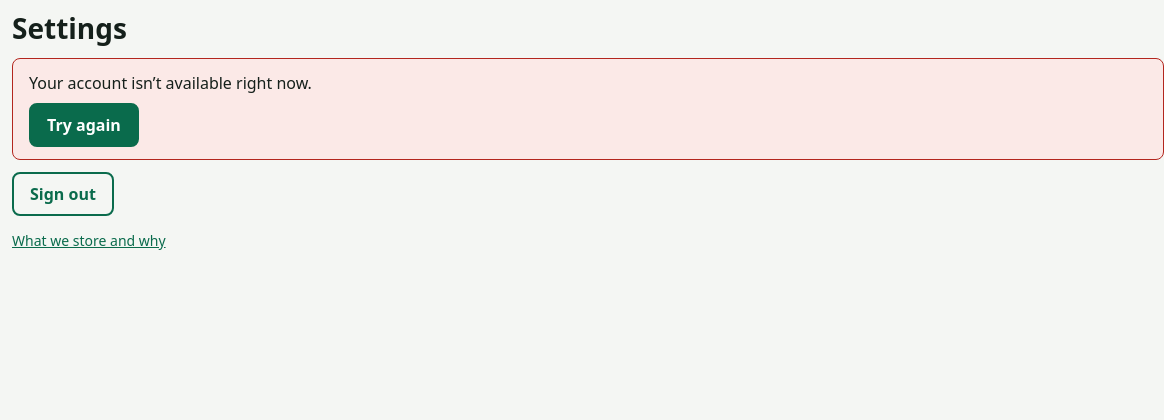
Test case: SettingsView signed in › shows an error with a working retry when the API fails
Expected: the message shows "Your account isn’t available right now.", [29,72,312,94]
Expected: the button "Delete my account" is not shown
What coordinates should you click on to do the following:
click the button "Try again"
I would click on:
 (84, 125)
Its box is [29,103,139,147].
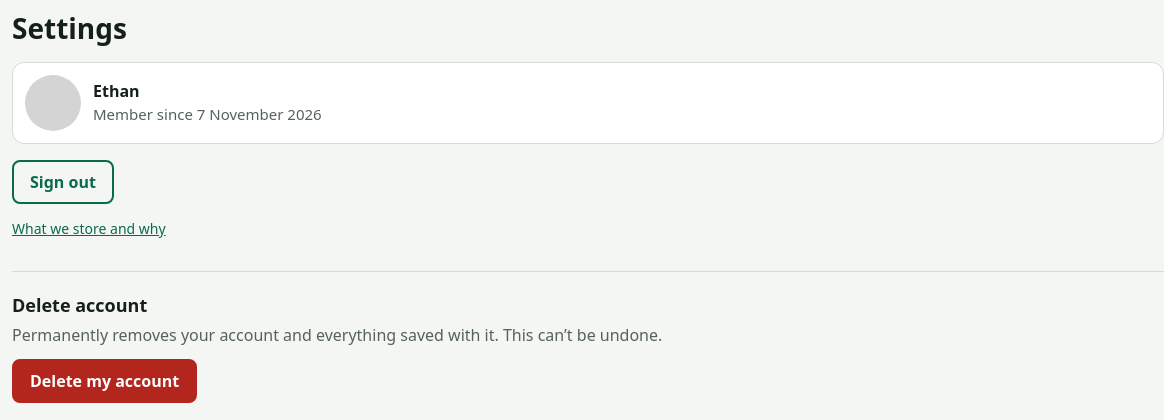
Result: the text "Ethan" is shown at [93,80,140,102]
Result: the message "Your account isn’t available right now. Try again" is gone
